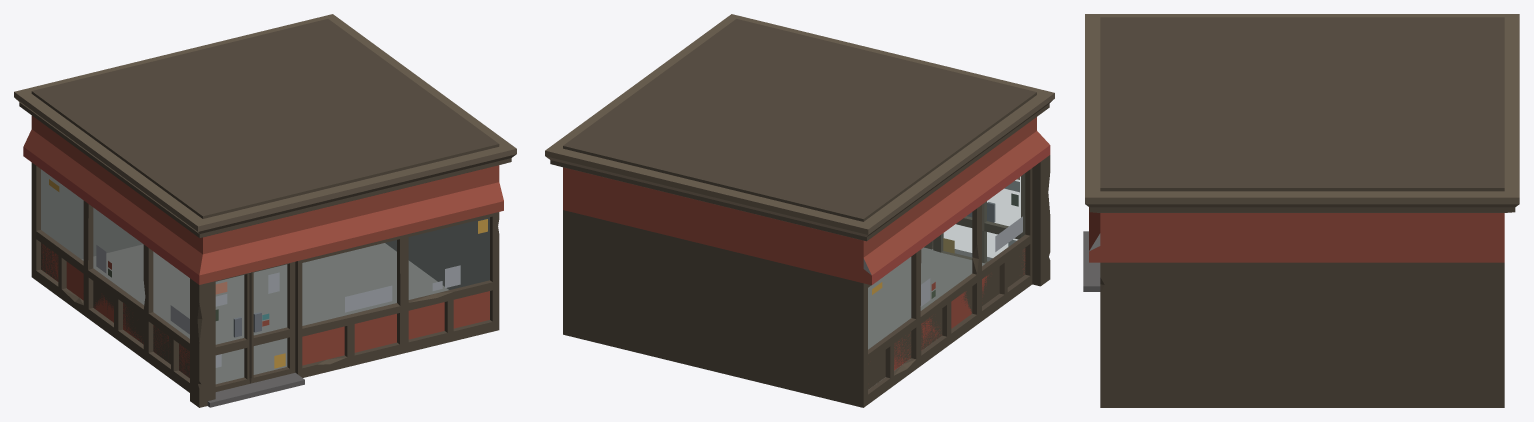
The model's file is SM_Bld_Shop_Corner_01.fbx.
3 renders of one model, left to right at view 1: azimuth 30°, elevation 25°; view 2: azimuth 150°, elevation 25°; view 3: azimuth 270°, elevation 25°, orthographic. The views are drawn at different scales.
Visible parts, largest first — view 1: SM_Bld_Shop_Corner_01, SM_Bld_Shop_Corner_01_Glass; view 2: SM_Bld_Shop_Corner_01, SM_Bld_Shop_Corner_01_Glass; view 3: SM_Bld_Shop_Corner_01.
Part boxes in pixels (box(x1,y1,x2,y2)): SM_Bld_Shop_Corner_01: box(14, 14, 516, 407); SM_Bld_Shop_Corner_01_Glass: box(41, 170, 489, 383); SM_Bld_Shop_Corner_01: box(545, 14, 1054, 407); SM_Bld_Shop_Corner_01_Glass: box(868, 174, 1024, 348); SM_Bld_Shop_Corner_01: box(1083, 14, 1519, 407).
Size of the model in its own units: 538 by 300 by 540.
